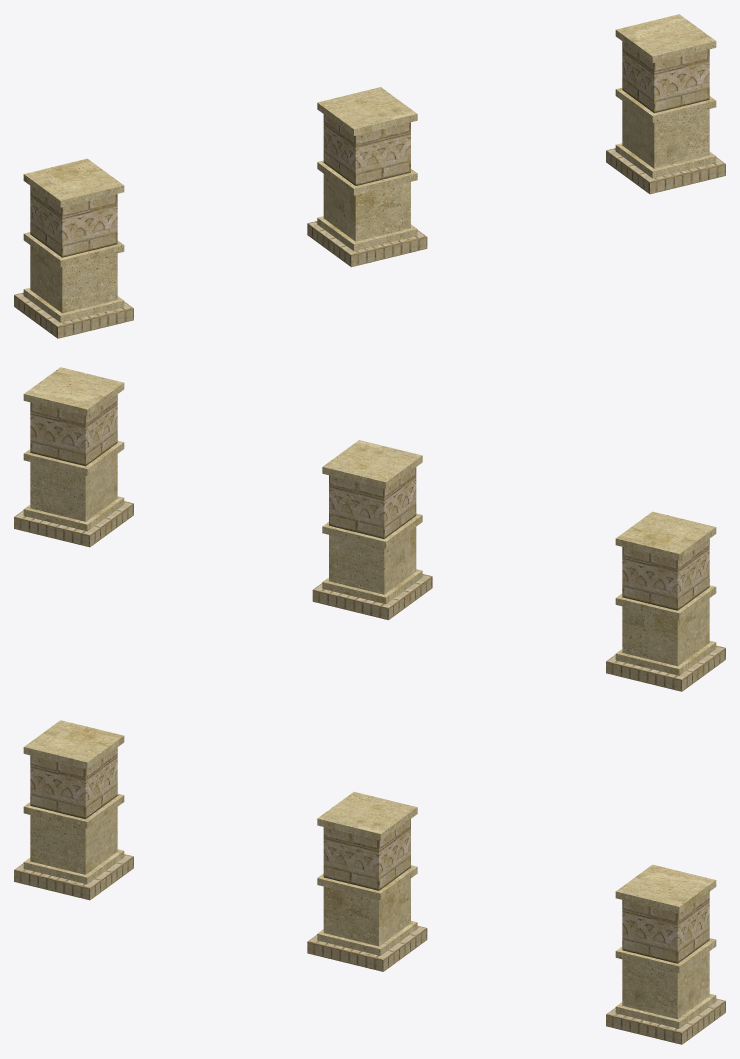
Rendered from tutorial_structure_pillar_ornament_x3.dae.
The picture shows the model from 3 angles, top to bottom: view 1: azimuth 30°, elevation 25°; view 2: azimuth 150°, elevation 25°; view 3: azimuth 330°, elevation 25°; orthographic projection.
Parts seen in each view (by area): view 1: tutorial_structure_pillar_ornament_x3; view 2: tutorial_structure_pillar_ornament_x3; view 3: tutorial_structure_pillar_ornament_x3.
Boxes of the visible parts, x1,y1,x2,y2 form: tutorial_structure_pillar_ornament_x3: [14, 14, 725, 338]; tutorial_structure_pillar_ornament_x3: [14, 367, 725, 691]; tutorial_structure_pillar_ornament_x3: [14, 720, 725, 1044].
Bounding box in the file's own units: 21.12 × 2.41 × 4.04.
Materials: 4 (4 with a texture image).
